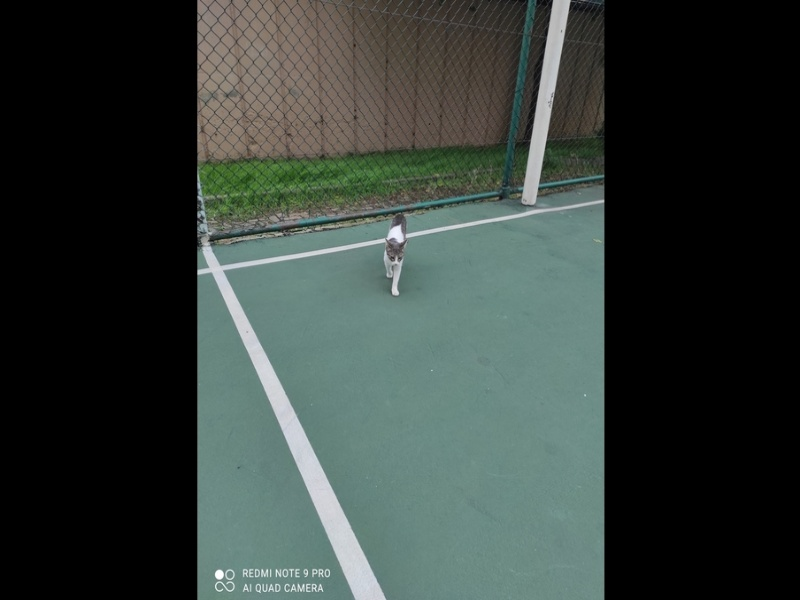cat: (382, 212, 410, 301)
